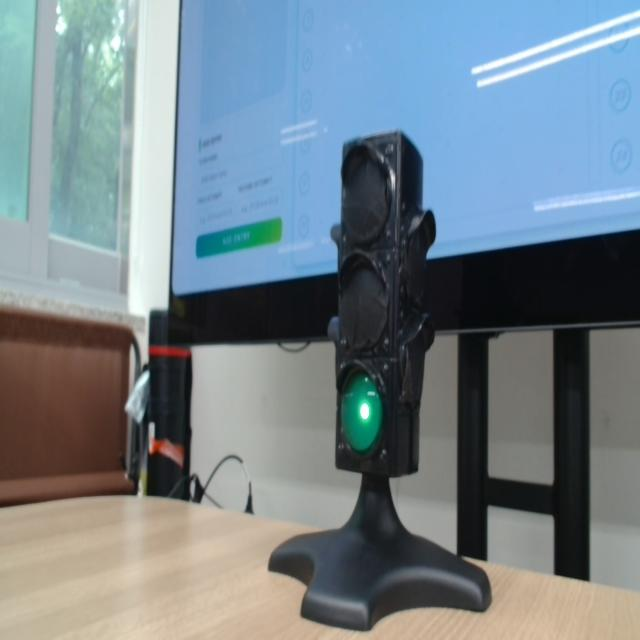green_light: (341, 372, 382, 453), (360, 403, 370, 420)
